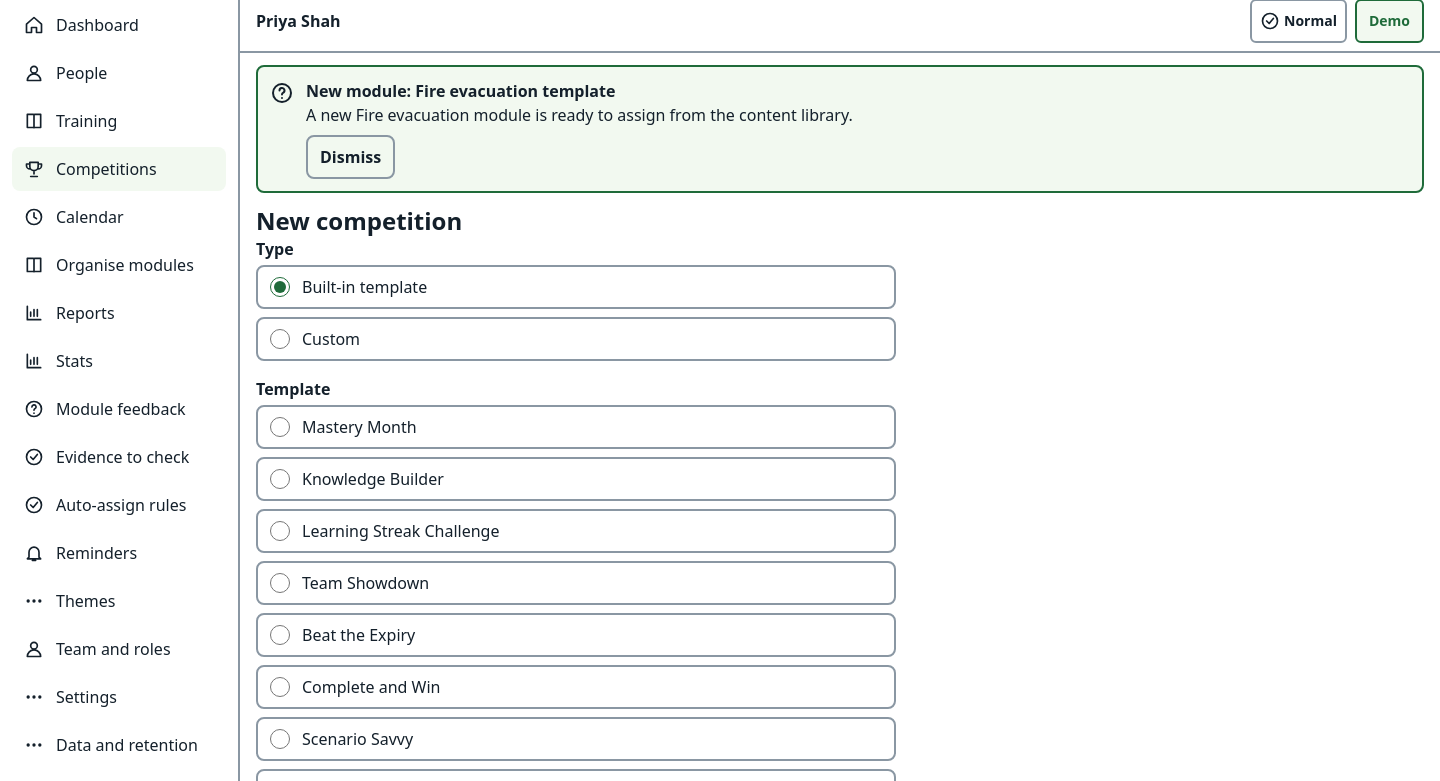
Test: C12 builder form (F-5) › shows the template reasoning when a template is chosen
Step 1. Click the radio button labelled "Mastery Month" → click(280, 427), box [270, 417, 290, 437]
(page scrolled)
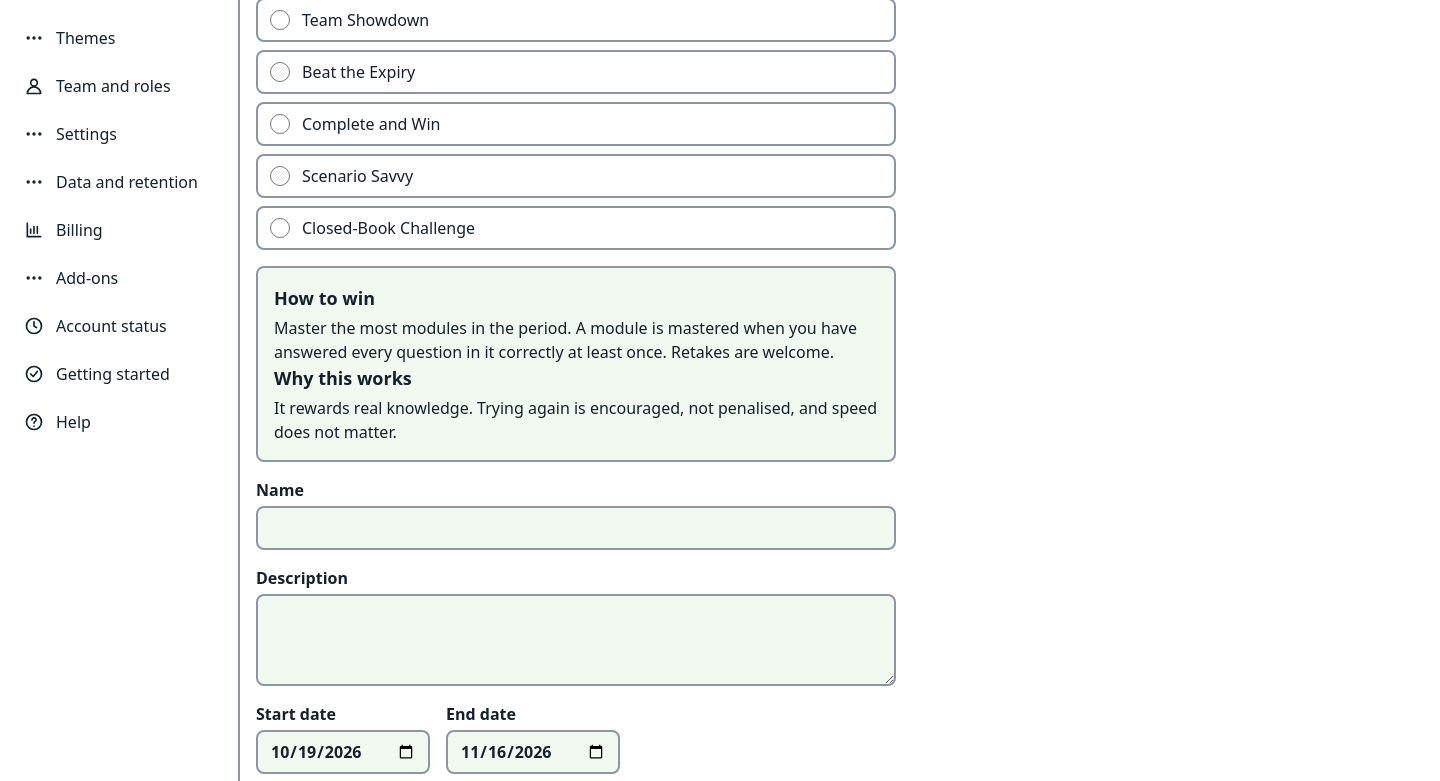
Expected: the text with test id "template-why" shows "It rewards real knowledge.", [274, 397, 877, 443]
Expected: the text "Master the most modules in the period" is shown, [274, 317, 857, 363]
